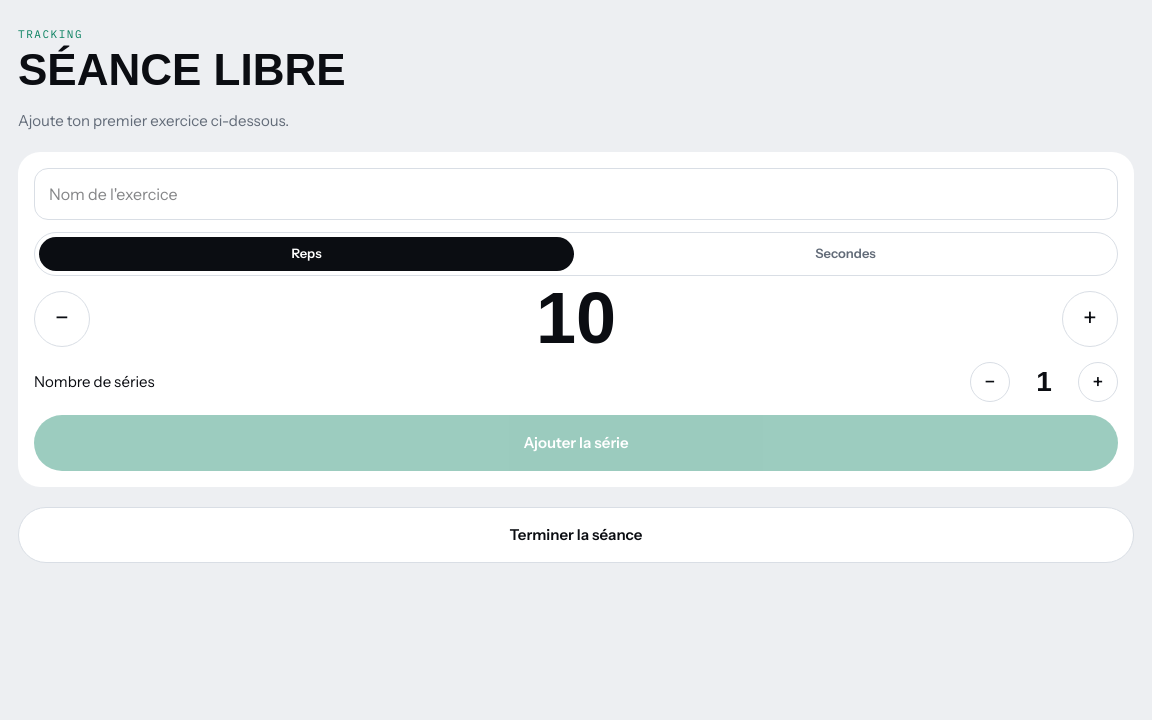
TrackingSeanceScreen › keeps the unit locked for an exercise added earlier in this same session, even though it isn't in the initial suggestions
Step 1. Type "Planche" into the field with placeholder "Nom de l'exercice" → (576, 194), box [34,168,1118,220]
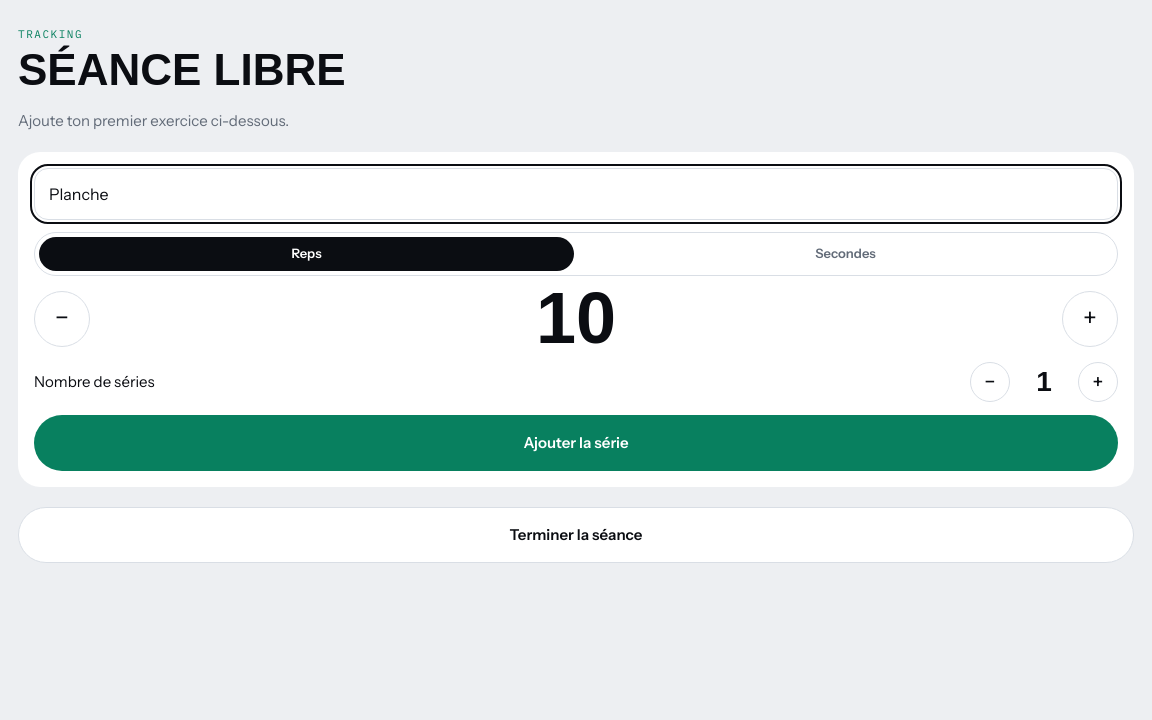
Step 2. Click the button "Secondes" → click(846, 254), box [578,237,1113,271]
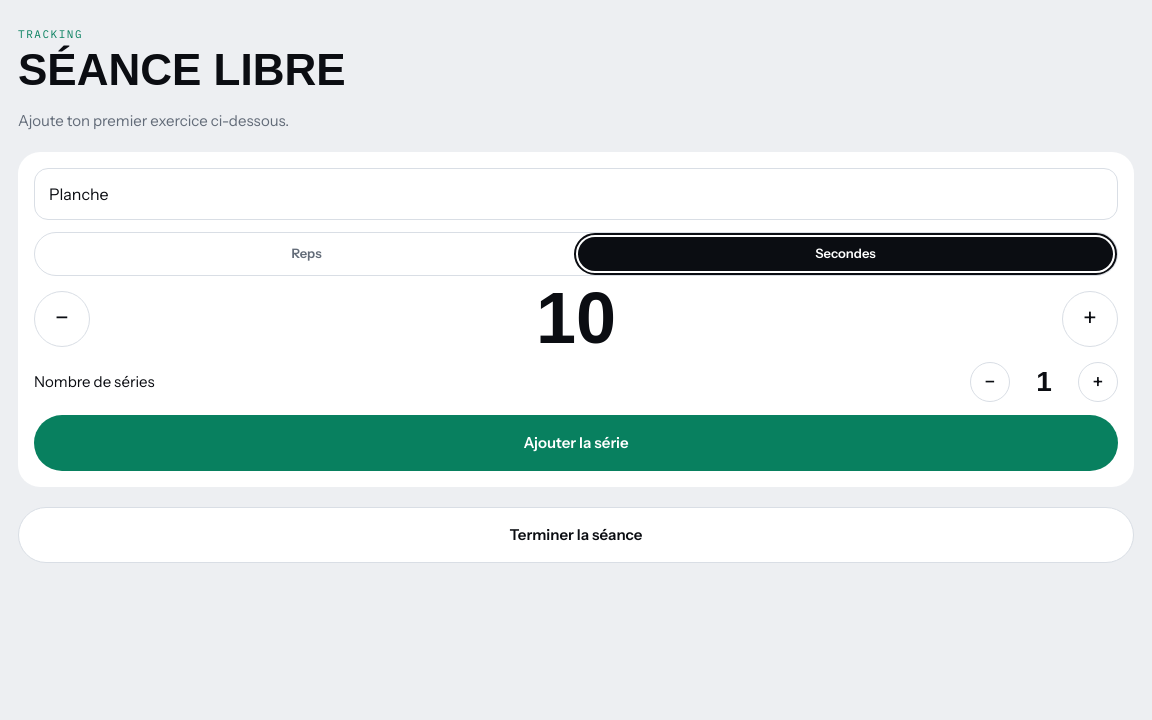
Step 3. Click the button "Ajouter la série" → click(576, 443), box [34,415,1118,471]
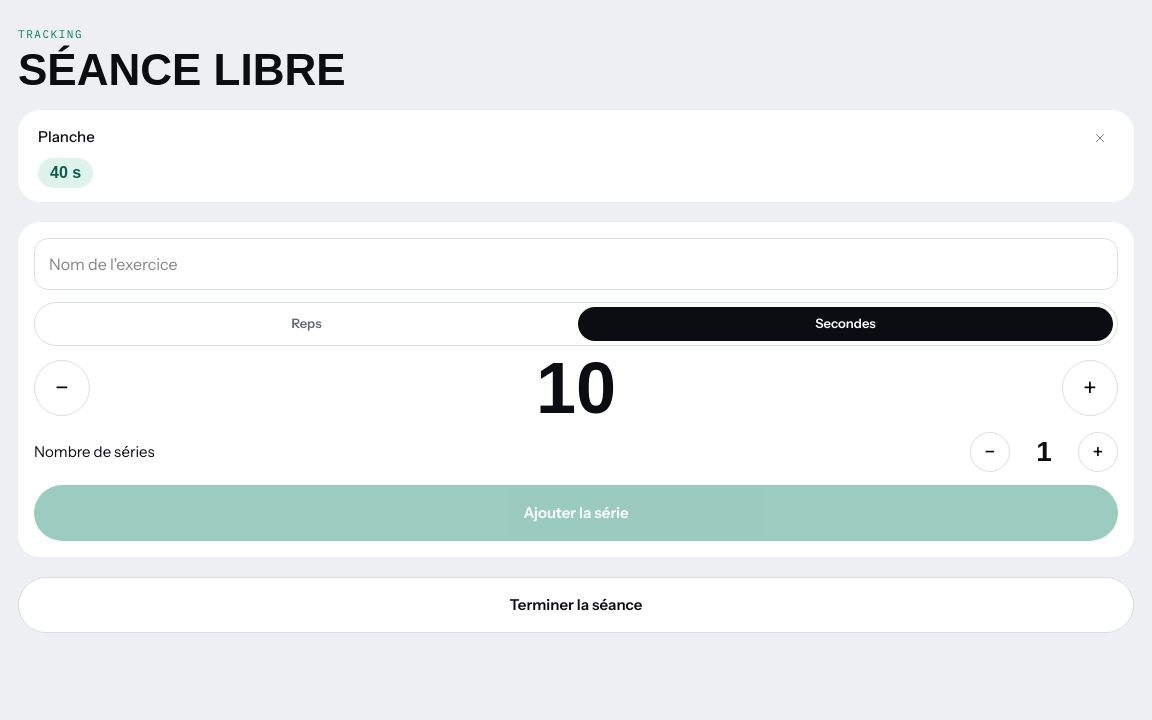
Step 4. Type "Planche" into the field with placeholder "Nom de l'exercice" → (576, 264), box [34,238,1118,290]
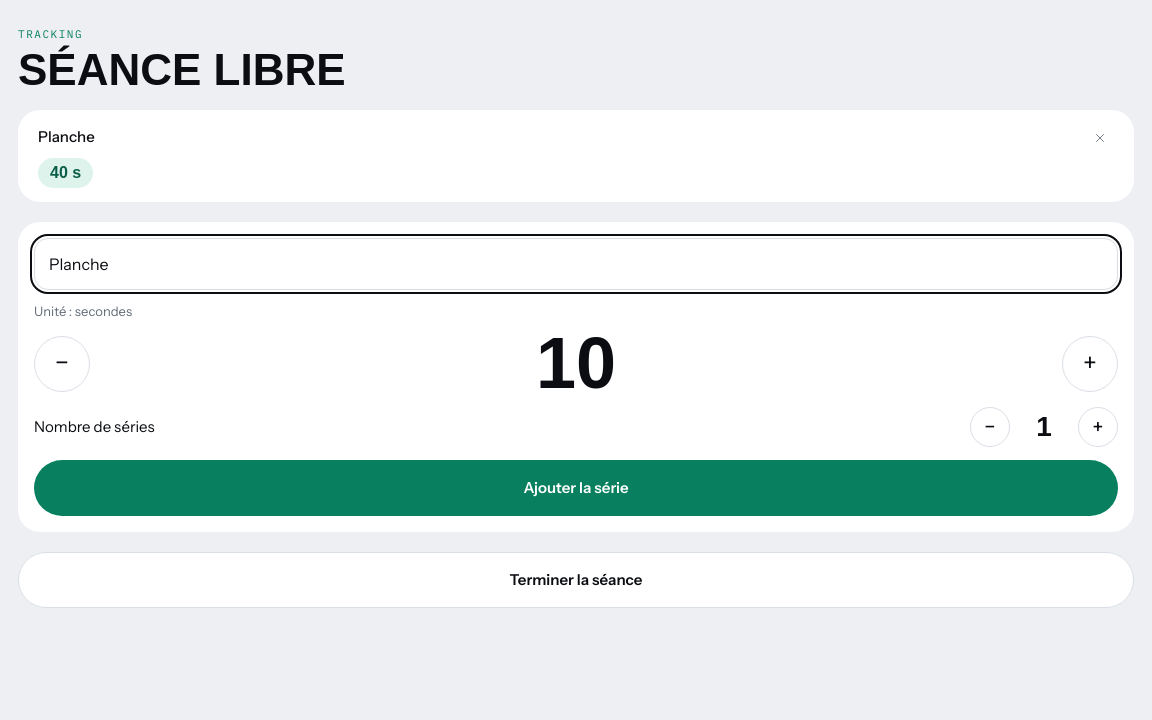
Check: the text "Unité : secondes" is shown, box [34,303,132,319]
Check: the button "Reps" is gone
